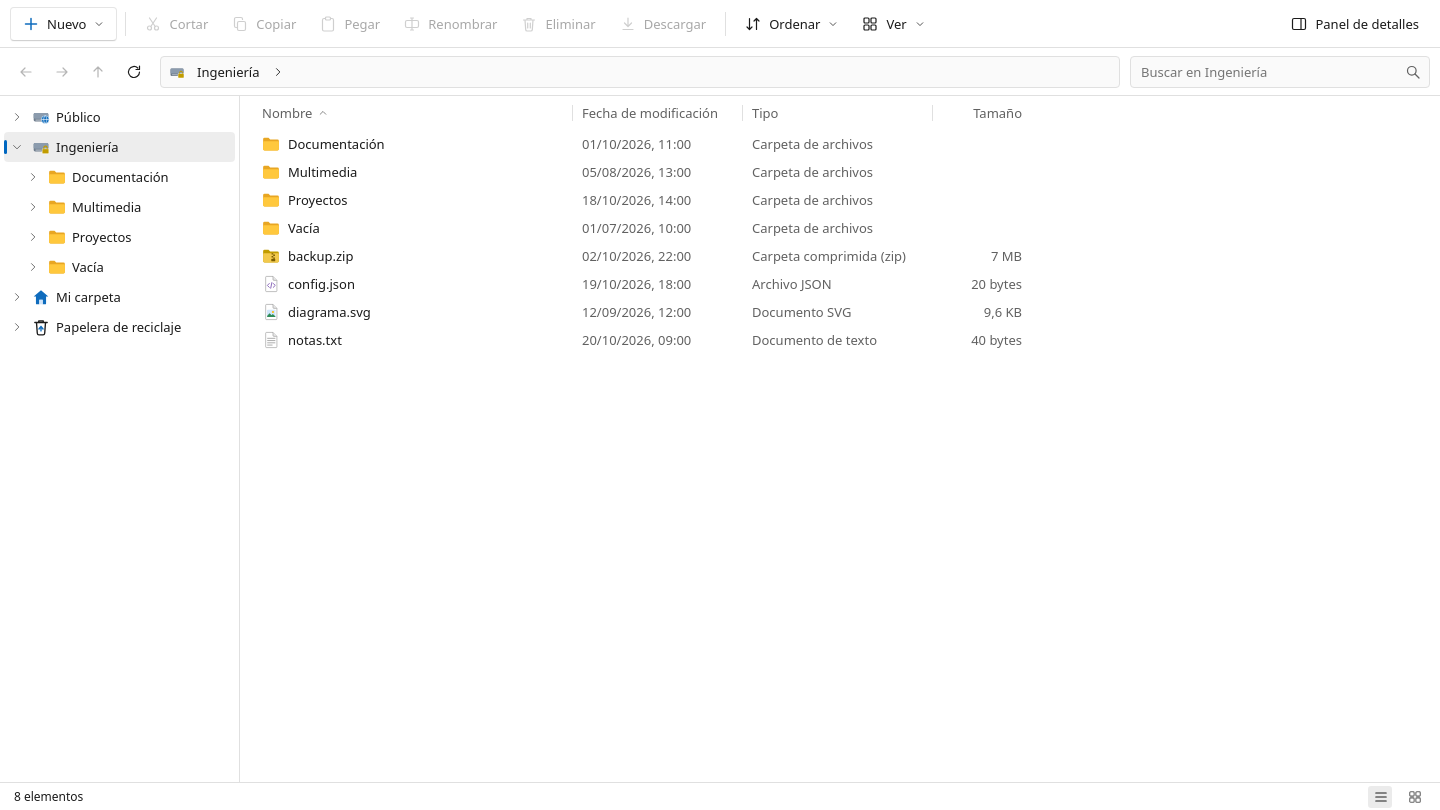
Test: Explorer: loading and navigation › accepts a typed /share/path in the address bar
The image size is (1440, 810).
Click the navigation bar named "Ruta de navegación" at (224, 72), box [165,58,284,84]
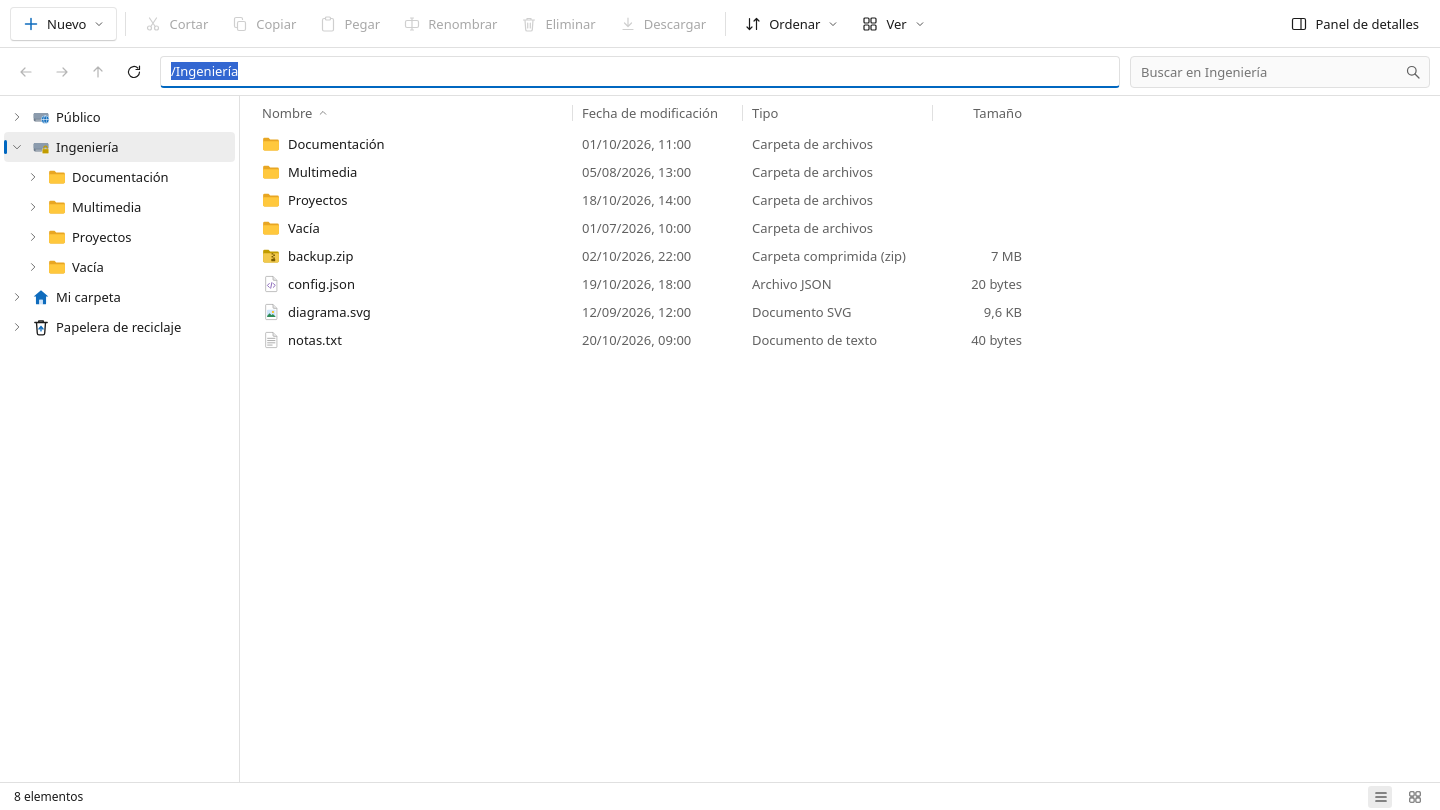
Expected: the field named "Dirección" holds "/Ingeniería"
Replace the text in the field named "Dirección" with "/engineering/Proyectos/Alfa" at (640, 71), box [165,56,1115,86]
Then press Enter
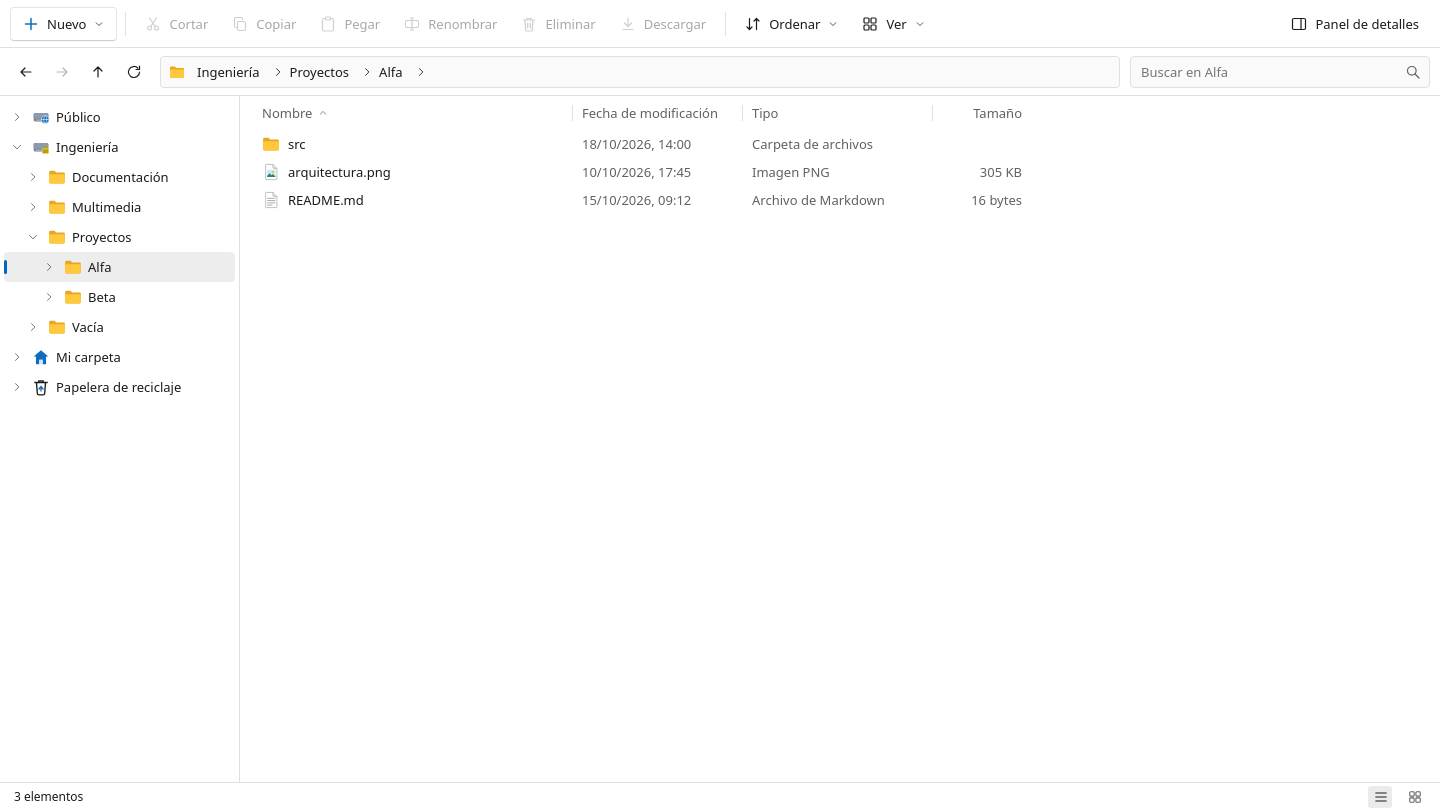
Expected: the option "README.md" is shown, [262,191,1022,209]
